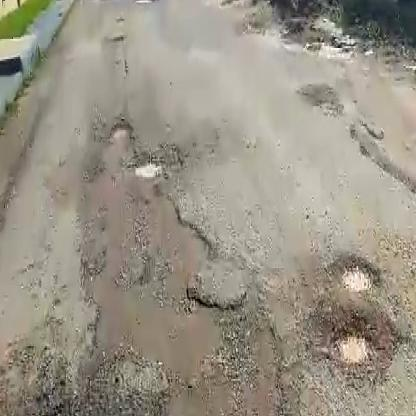pothole: (333, 310, 372, 374), (332, 252, 378, 297), (107, 115, 133, 145), (130, 161, 160, 181)
